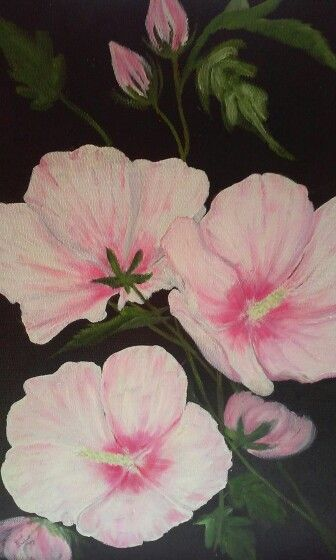Hibiscus: (6, 344, 233, 557), (160, 165, 336, 395), (5, 149, 203, 337), (202, 379, 314, 470), (101, 27, 154, 109), (138, 4, 192, 58)
